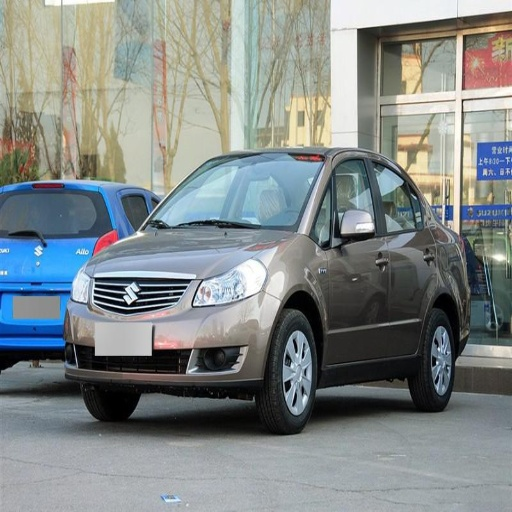back_glass: (5, 195, 66, 234)
front_bumper: (66, 276, 281, 387)
front_glass: (142, 154, 323, 230)
front_left_door: (311, 153, 390, 365)
trunk: (447, 238, 471, 311)
